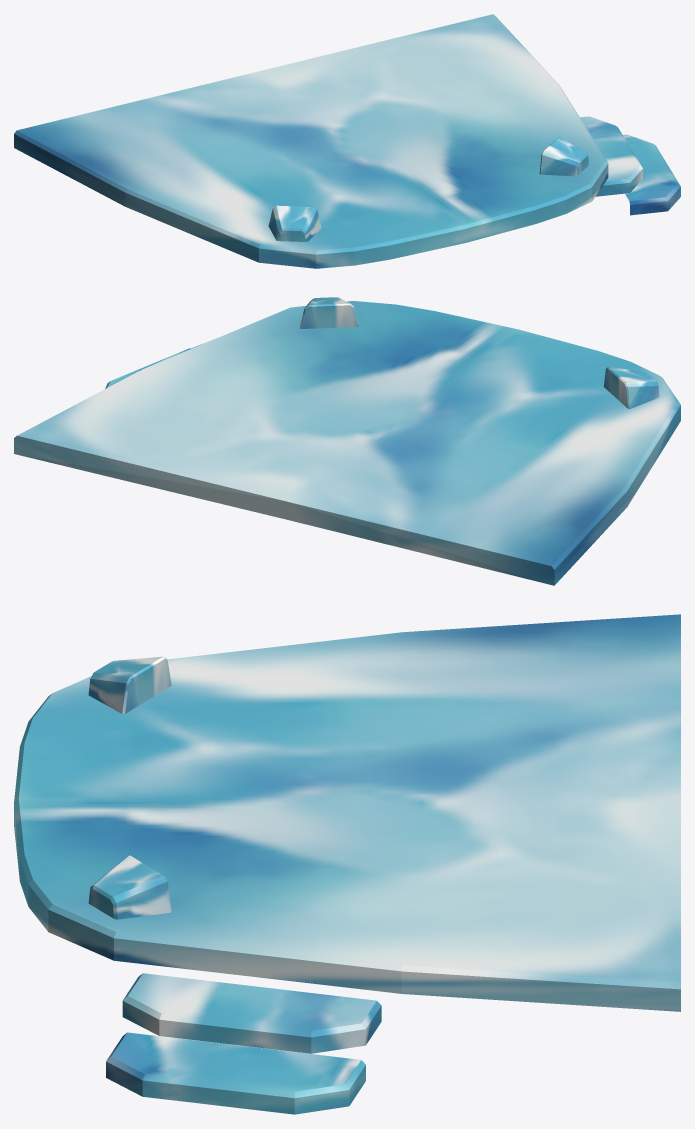
The model's file is Fx_Obj_WeatherForecast_00.FBX.
3 renders of one model, top to bottom at view 1: azimuth 30°, elevation 25°; view 2: azimuth 150°, elevation 25°; view 3: azimuth 270°, elevation 25°, orthographic. The views are drawn at different scales.
Visible parts, largest first — view 1: Fx_Obj_WeatherForecast_00; view 2: Fx_Obj_WeatherForecast_00; view 3: Fx_Obj_WeatherForecast_00.
Boxes of the visible parts, x1=… form: Fx_Obj_WeatherForecast_00: x1=14, y1=14, x2=680, y2=268; Fx_Obj_WeatherForecast_00: x1=14, y1=297, x2=680, y2=585; Fx_Obj_WeatherForecast_00: x1=14, y1=614, x2=680, y2=1114.
Bounding box in the file's own units: 190 × 29.09 × 133.
